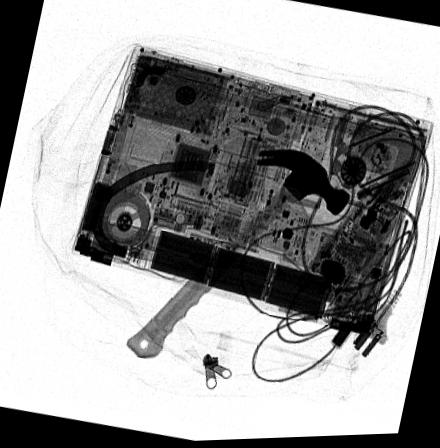Hammer: (125, 149, 349, 358)
